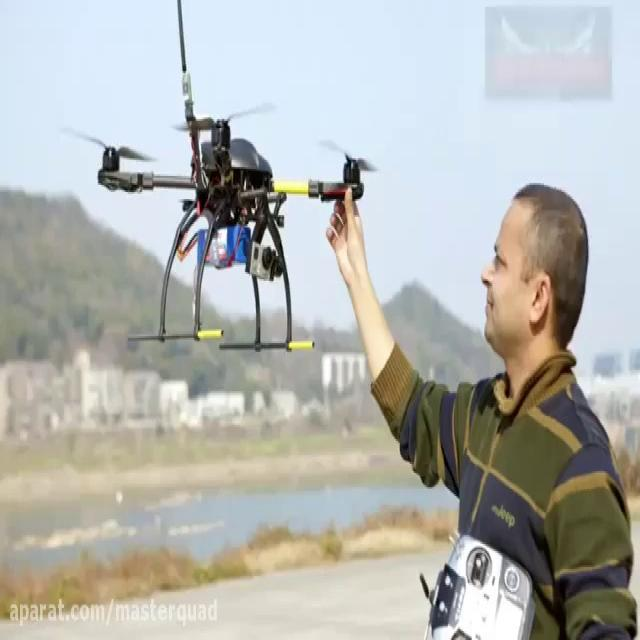drone: (66, 92, 387, 361)
